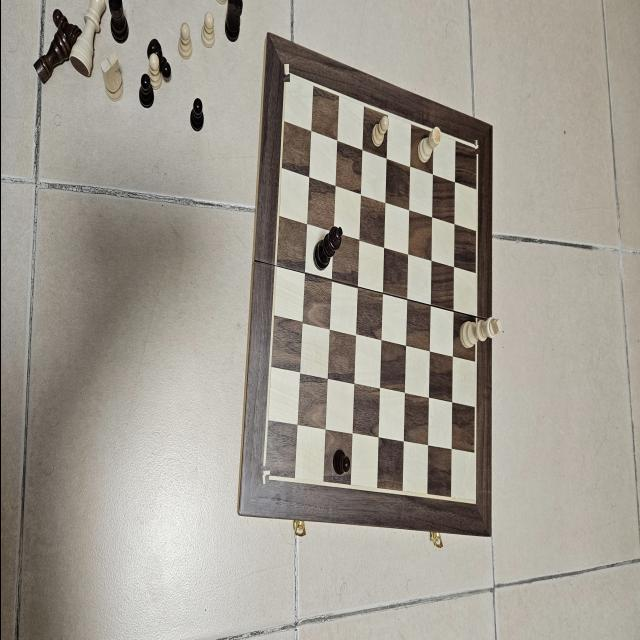chess-table-corners: (260, 466, 268, 484), (471, 494, 479, 510), (282, 64, 288, 82), (473, 140, 480, 154)
